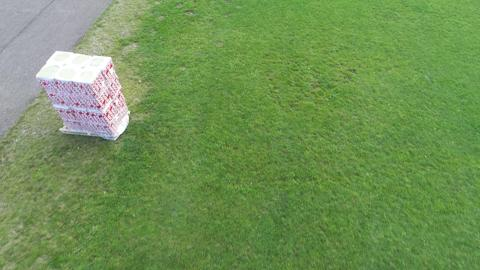RockwoolPallet: (35, 51, 130, 140)
